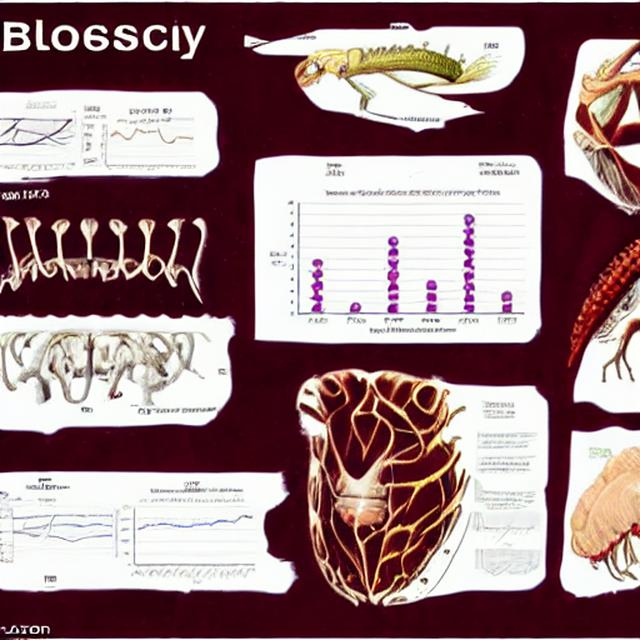Graph: (261, 186, 532, 339), (113, 496, 257, 587), (98, 119, 197, 174), (470, 503, 538, 546)
